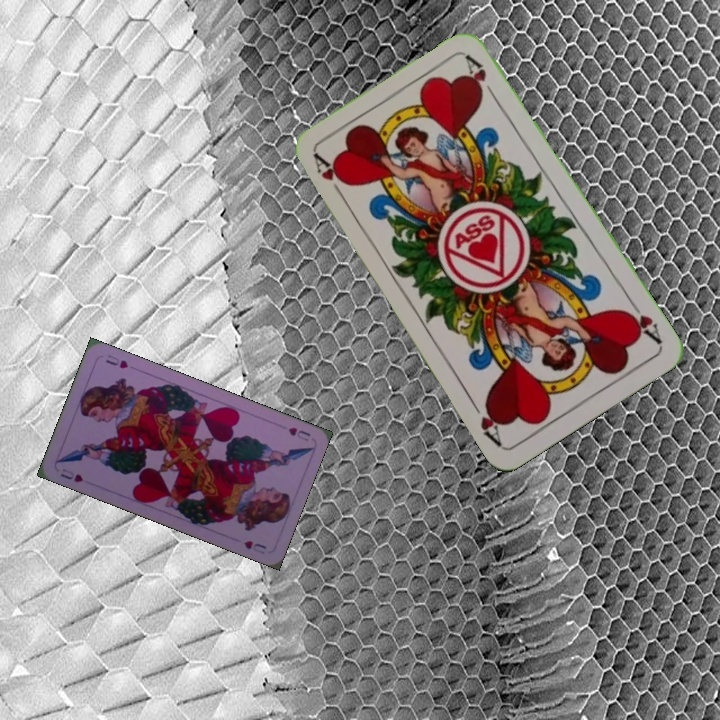HA: (620, 295, 665, 347), (309, 150, 352, 204)
HU: (56, 464, 86, 485), (284, 423, 313, 444)
